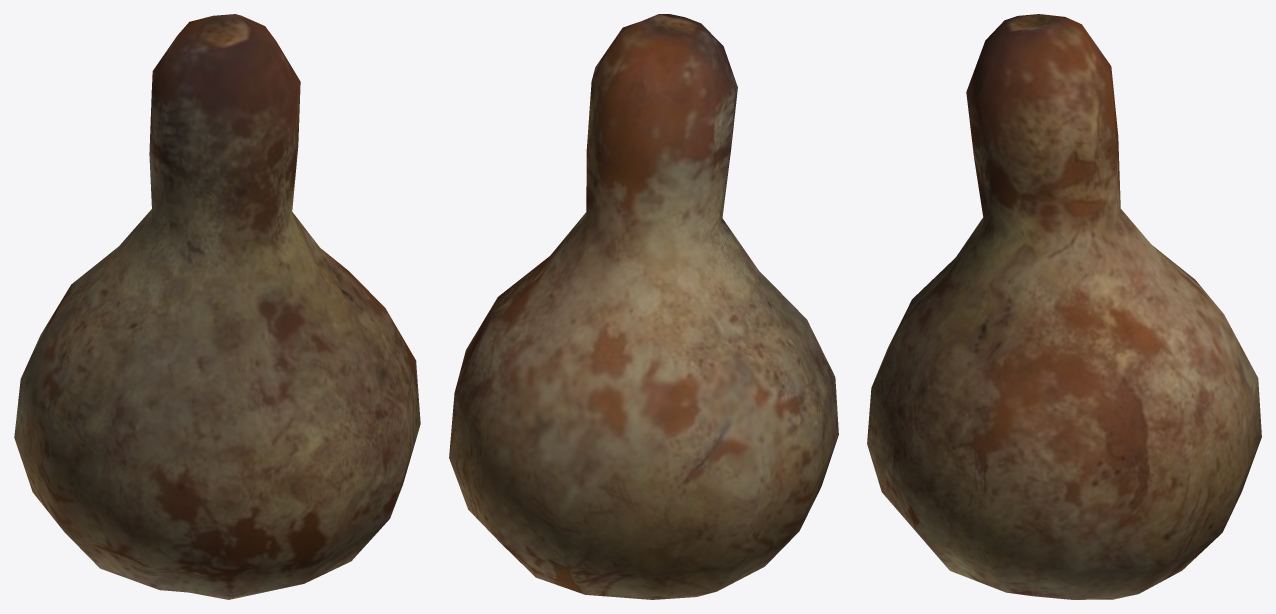
Rendered from A83_Bottle_Gourd_low.fbx.
The picture shows the model from 3 angles, left to right: view 1: azimuth 30°, elevation 25°; view 2: azimuth 150°, elevation 25°; view 3: azimuth 270°, elevation 25°; orthographic projection. The views are drawn at different scales.
Parts seen in each view (by area): view 1: A83_Bottle_Gourd_low; view 2: A83_Bottle_Gourd_low; view 3: A83_Bottle_Gourd_low.
Boxes of the visible parts, bbox=[...] form: A83_Bottle_Gourd_low: bbox=[14, 14, 420, 599]; A83_Bottle_Gourd_low: bbox=[449, 14, 838, 599]; A83_Bottle_Gourd_low: bbox=[867, 14, 1261, 599].
Size of the model in its own units: 20.8 by 20.85 by 31.89.
Materials: 1 (1 with a texture image).
